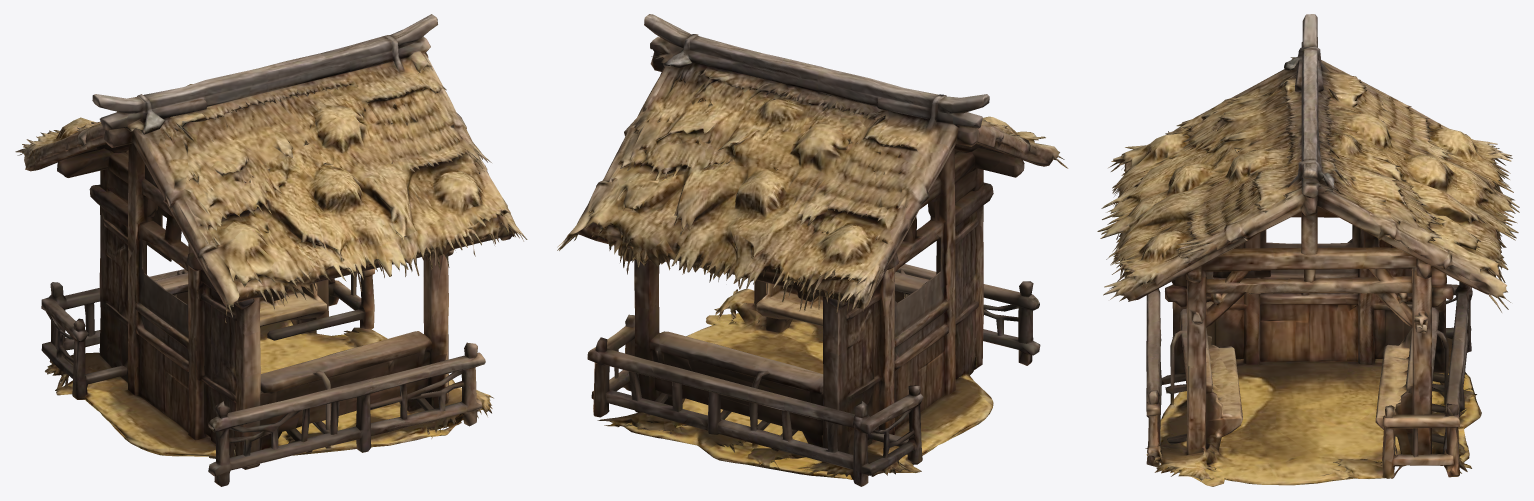
Rendered from stable-mid.glb.
3 views of the same model, side by side, from view 1: azimuth 30°, elevation 25°; view 2: azimuth 150°, elevation 25°; view 3: azimuth 270°, elevation 25° (orthographic). The views are drawn at different scales.
Bounding box in the file's own units: 0.8725 × 0.8369 × 0.9974.
1 material, 1 textured.
